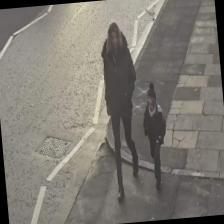person: (96, 20, 146, 202), (140, 82, 172, 189)
